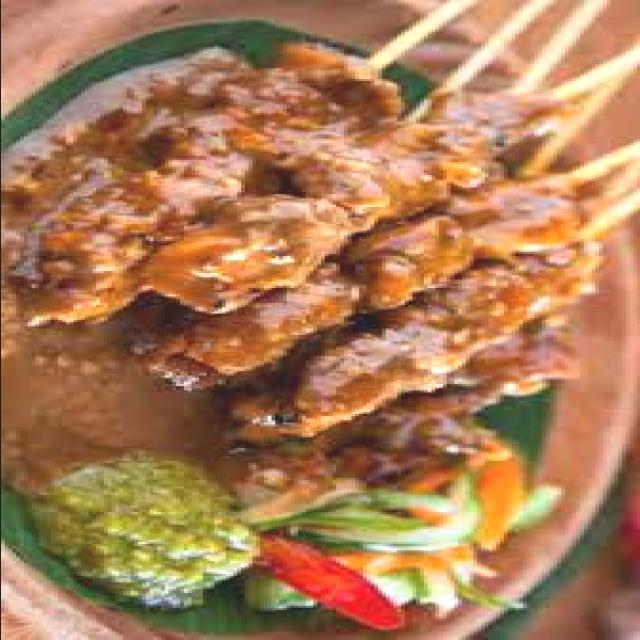sate: (69, 0, 640, 462)
